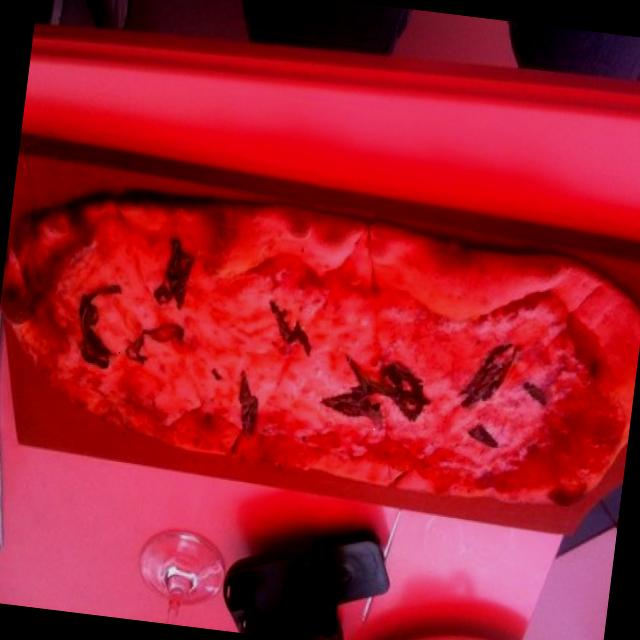basil: (57, 275, 125, 386), (112, 297, 195, 373), (318, 368, 402, 435), (368, 356, 441, 428), (450, 344, 527, 411), (146, 224, 202, 316), (256, 299, 334, 361), (226, 364, 276, 454), (510, 371, 560, 423), (460, 417, 503, 455)
pizza: (0, 198, 640, 505)
